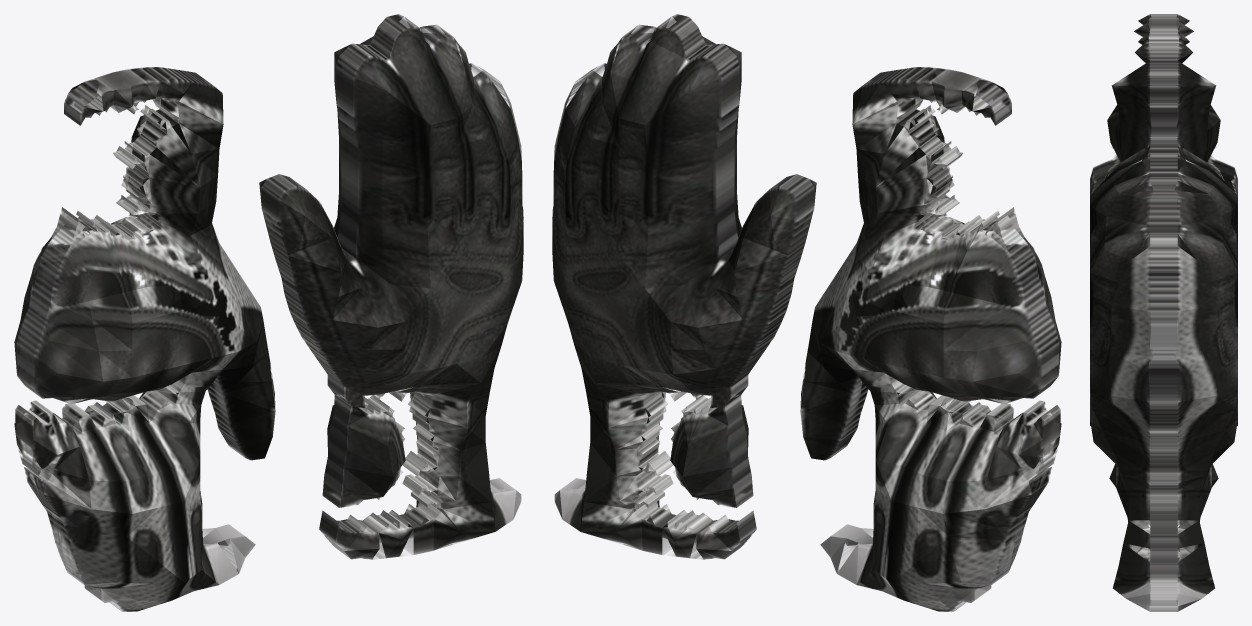
Rendered from shoei-apex-summer-glove-079.glb.
3 views of the same model, side by side, from view 1: azimuth 30°, elevation 25°; view 2: azimuth 150°, elevation 25°; view 3: azimuth 270°, elevation 25° (orthographic). The views are drawn at different scales.
Parts seen in each view (by area): view 1: world; view 2: world; view 3: world.
Boxes of the visible parts, x1,y1,x2,y2 form: world: (14,14,523,611); world: (552,14,1061,611); world: (1090,14,1237,611).
Bounding box in the file's own units: 0.9529 × 1 × 0.3.
1 material, 1 textured.
